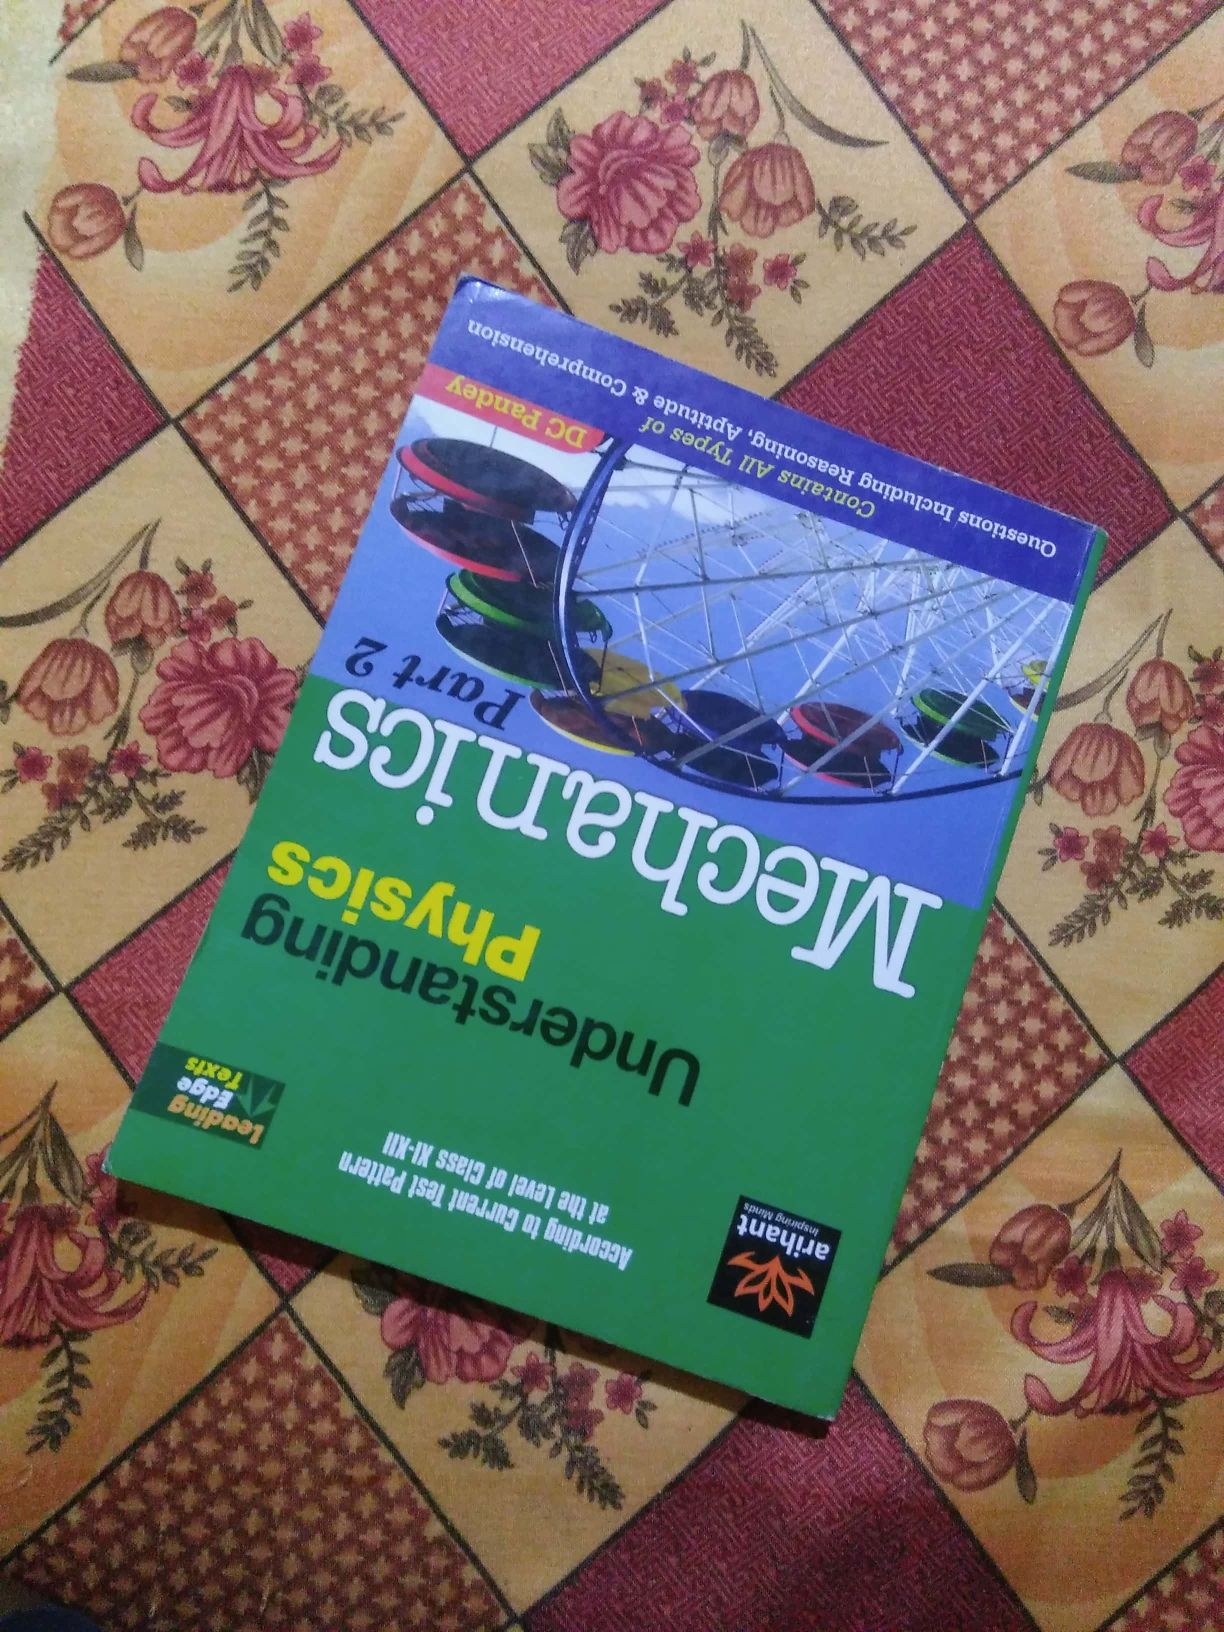mechanics: (192, 248, 1044, 1459)
